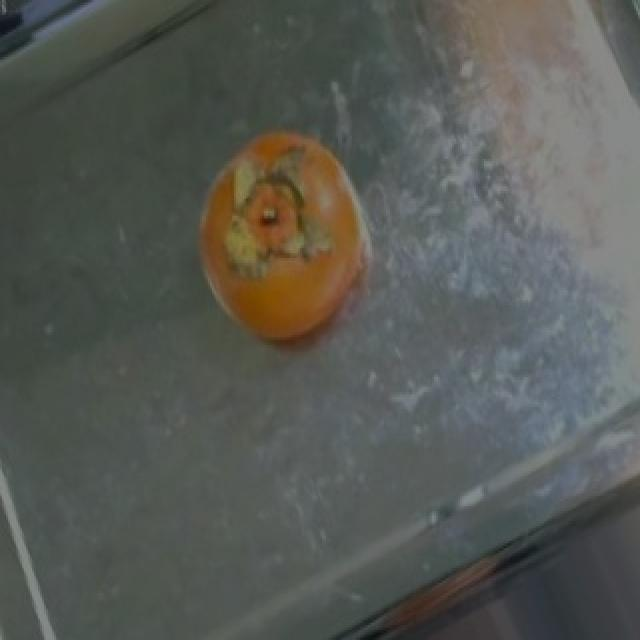Fruit: (178, 112, 398, 370)
